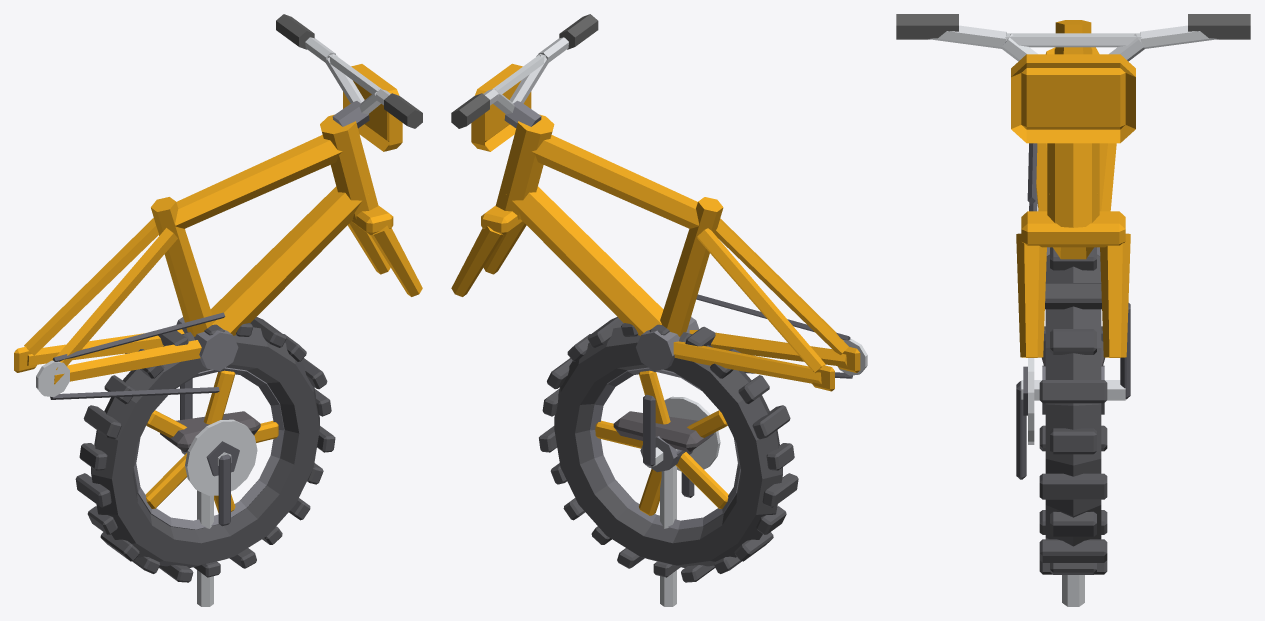
The model's file is bike.glb.
The picture shows the model from 3 angles, left to right: view 1: azimuth 30°, elevation 25°; view 2: azimuth 150°, elevation 25°; view 3: azimuth 270°, elevation 25°; orthographic projection. The views are drawn at different scales.
Visible parts, largest first — view 1: frame, wheel, crank, fork, saddle, seatpost; view 2: frame, wheel, fork, crank, saddle, seatpost; view 3: frame, wheel, fork, crank, seatpost.
Part boxes in pixels (x1,y1,x2,y2): frame: [14, 14, 422, 399]; wheel: [75, 317, 335, 582]; crank: [180, 378, 257, 526]; fork: [347, 205, 422, 296]; saddle: [160, 411, 260, 452]; seatpost: [197, 490, 213, 606]; frame: [451, 14, 867, 391]; wheel: [539, 317, 798, 582]; fork: [451, 205, 526, 296]; crank: [643, 394, 720, 497]; saddle: [613, 411, 713, 452]; seatpost: [660, 465, 676, 606]; frame: [896, 14, 1250, 259]; wheel: [1039, 247, 1107, 574]; fork: [1016, 211, 1130, 357]; crank: [1016, 303, 1130, 479]; seatpost: [1062, 575, 1084, 606].
Bounding box in the file's own units: 1.14 × 1.45 × 0.68.
